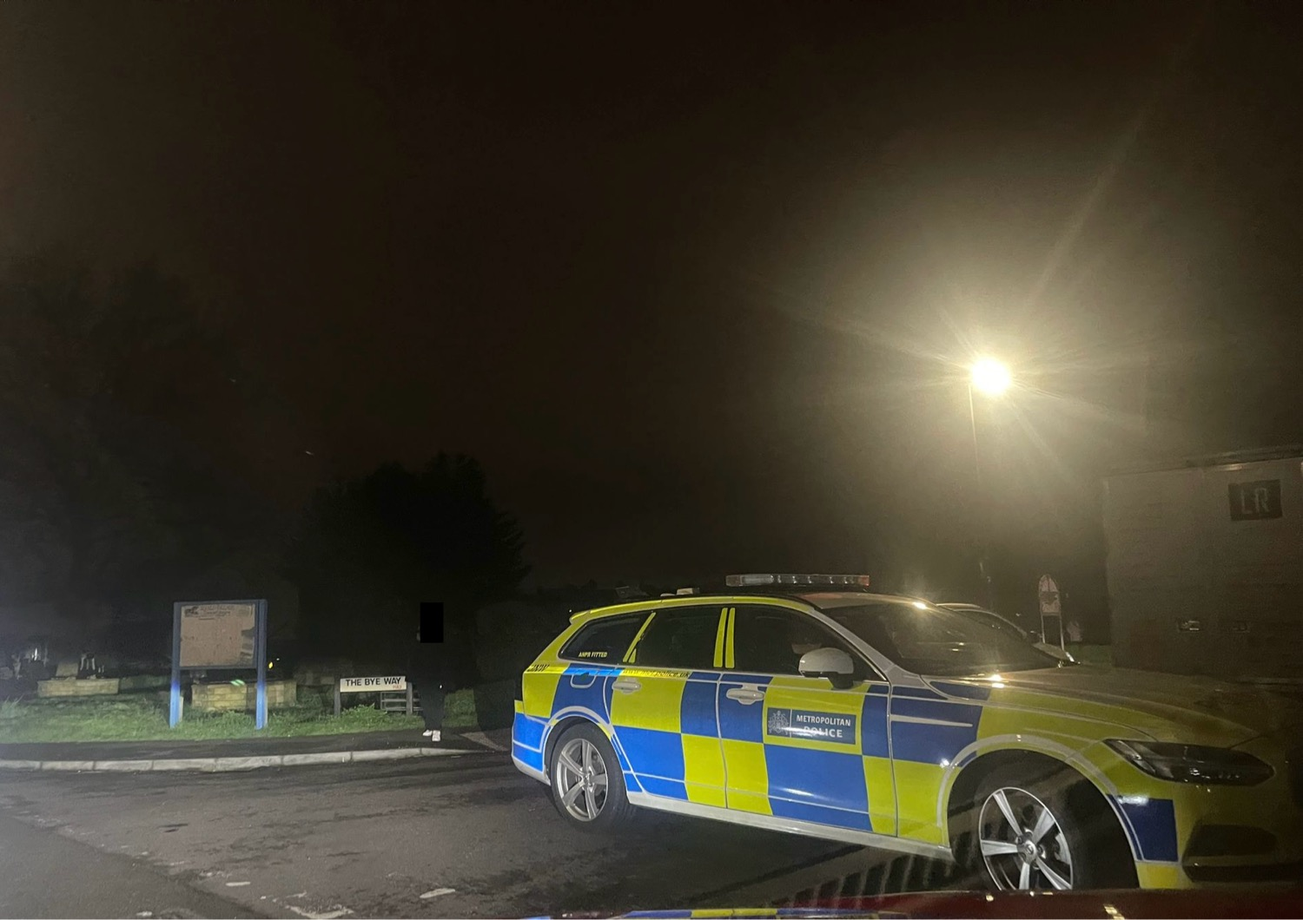Car: (506, 566, 1288, 887)
